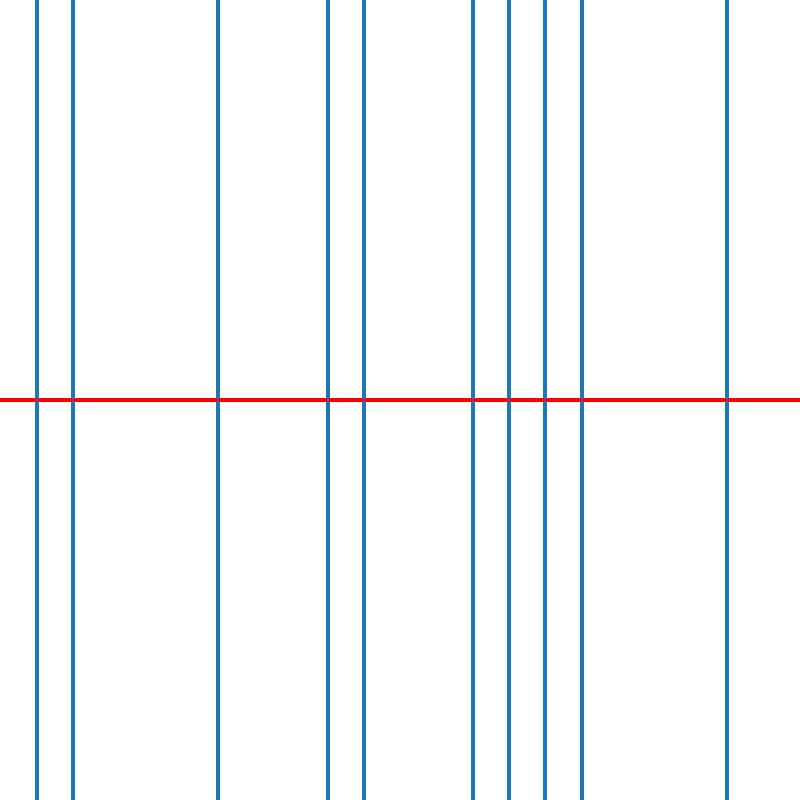root: (32, 396, 40, 404), (541, 396, 549, 404), (723, 396, 730, 404), (360, 396, 367, 404), (578, 396, 585, 404), (469, 396, 476, 404), (323, 396, 330, 404), (505, 396, 512, 404), (214, 396, 221, 404), (69, 396, 76, 404)
